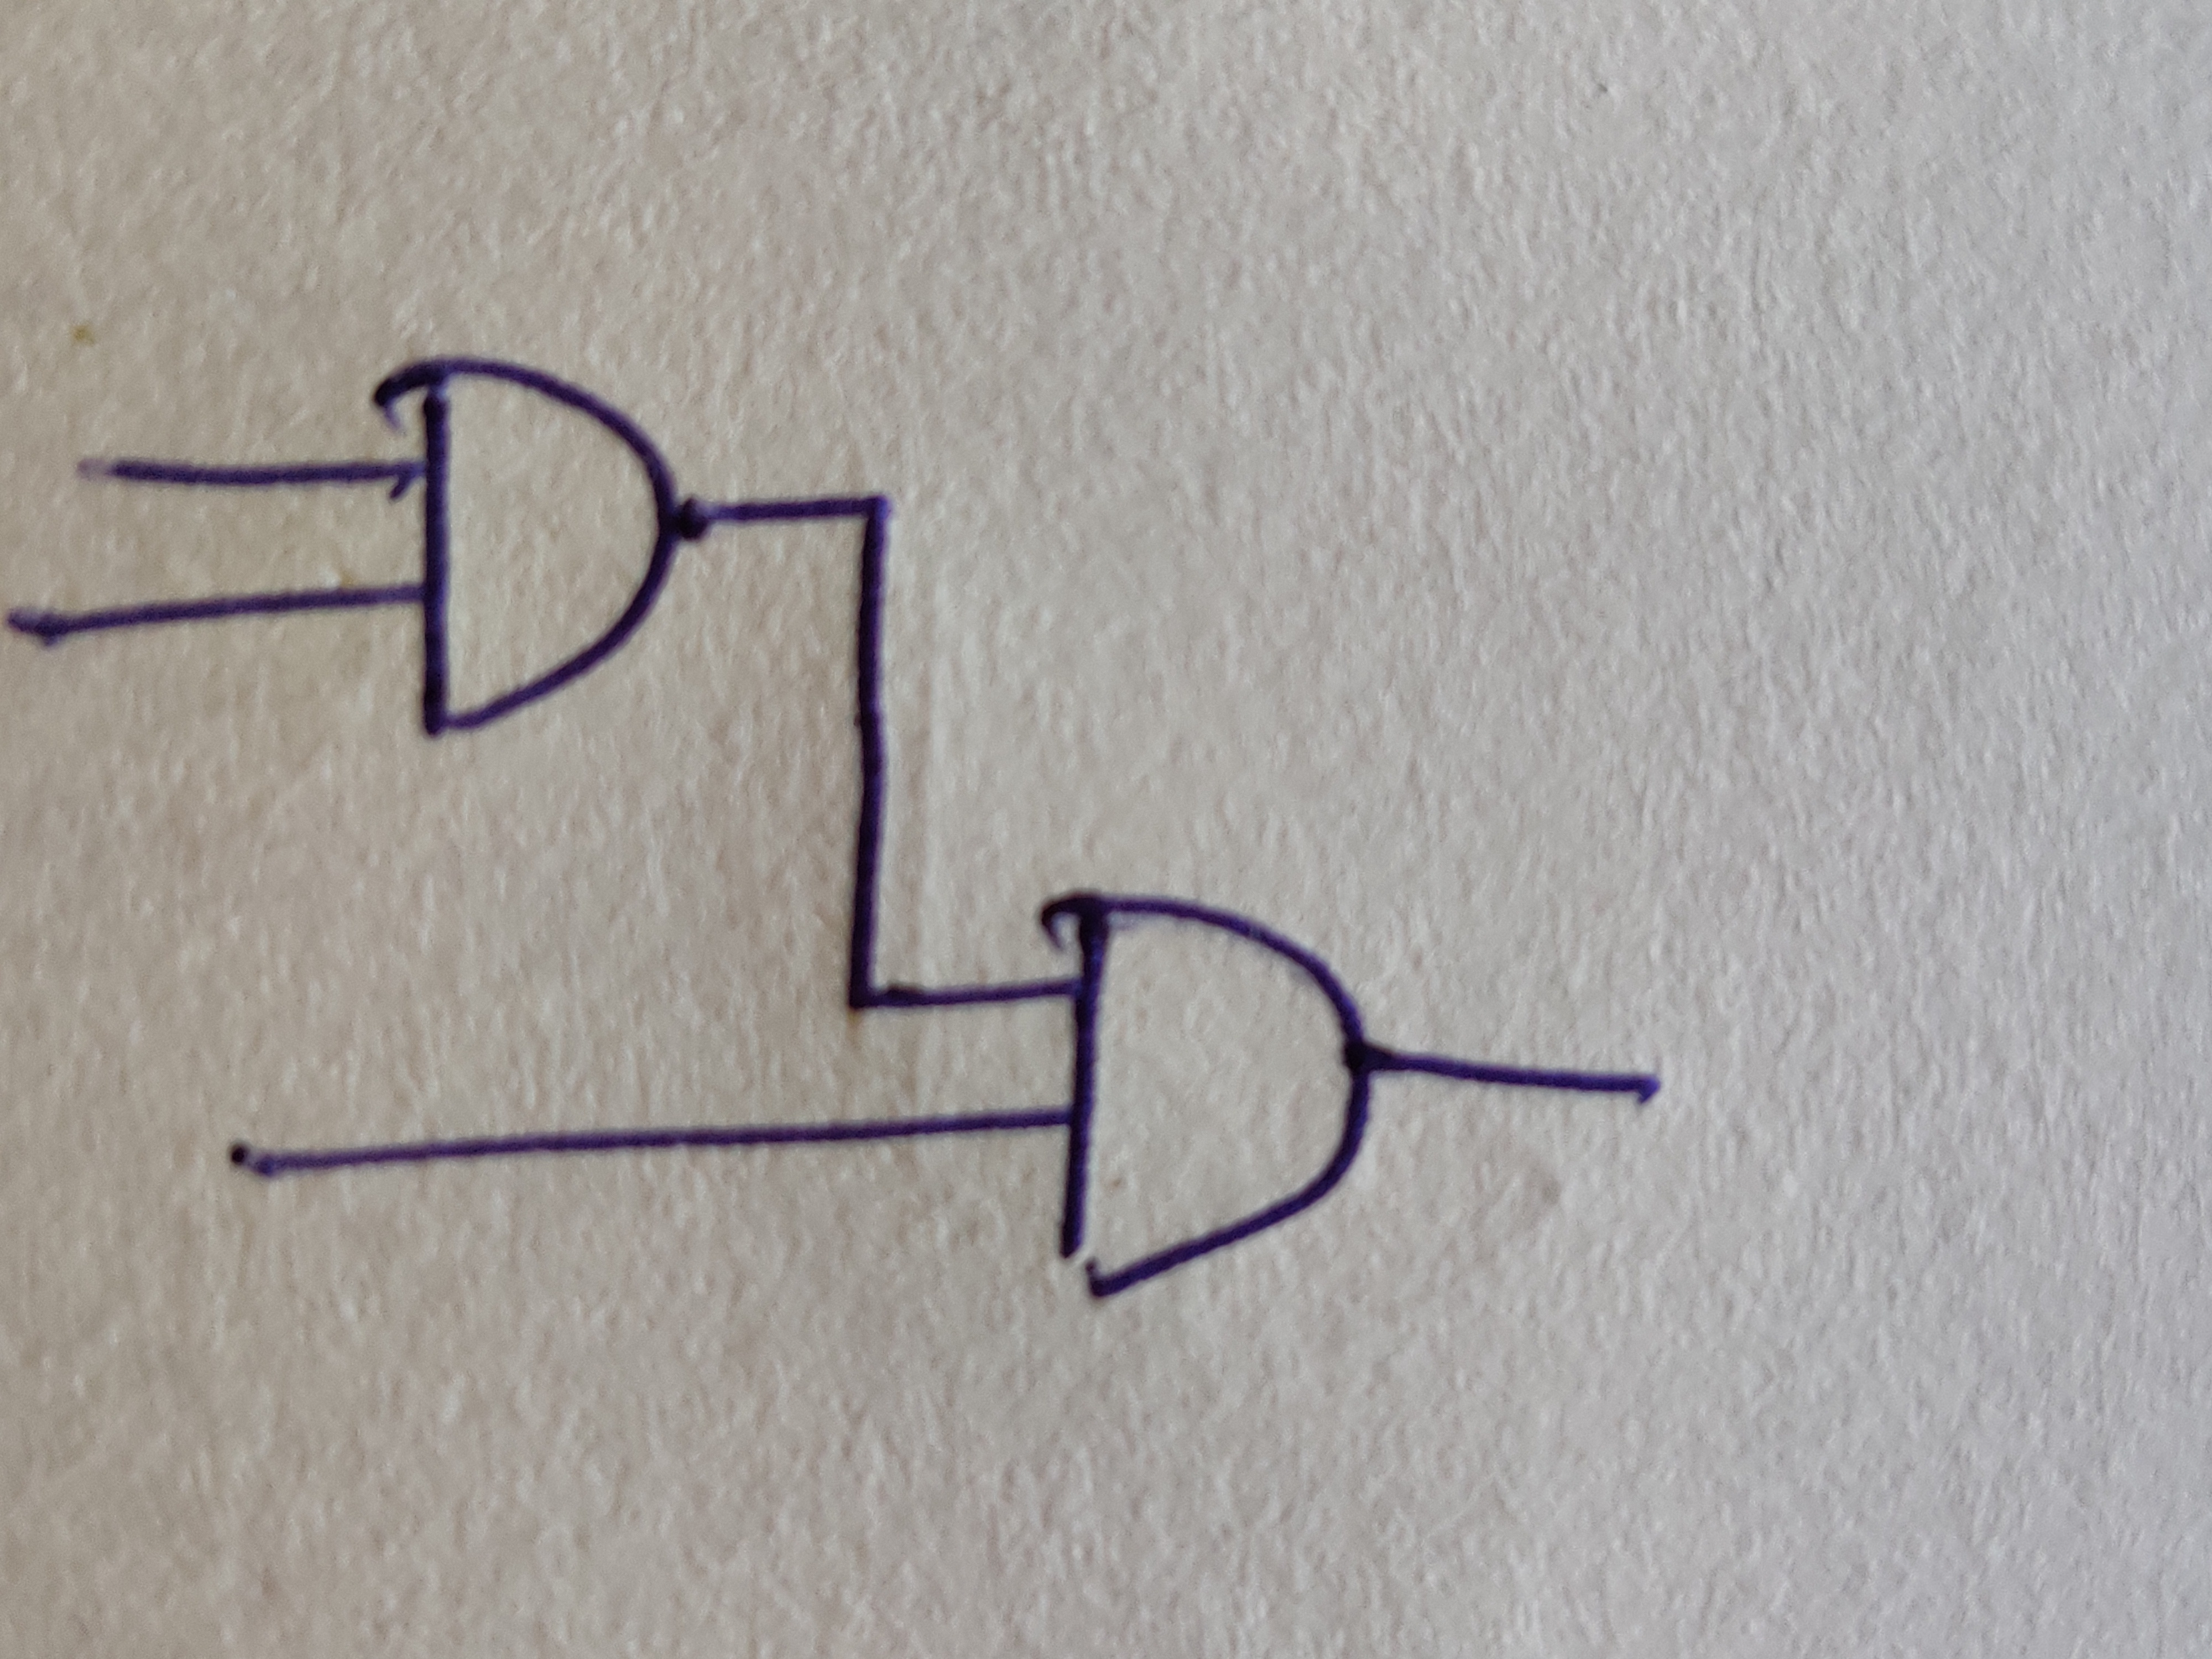and: (1038, 890, 1367, 1297), (373, 356, 681, 739)
